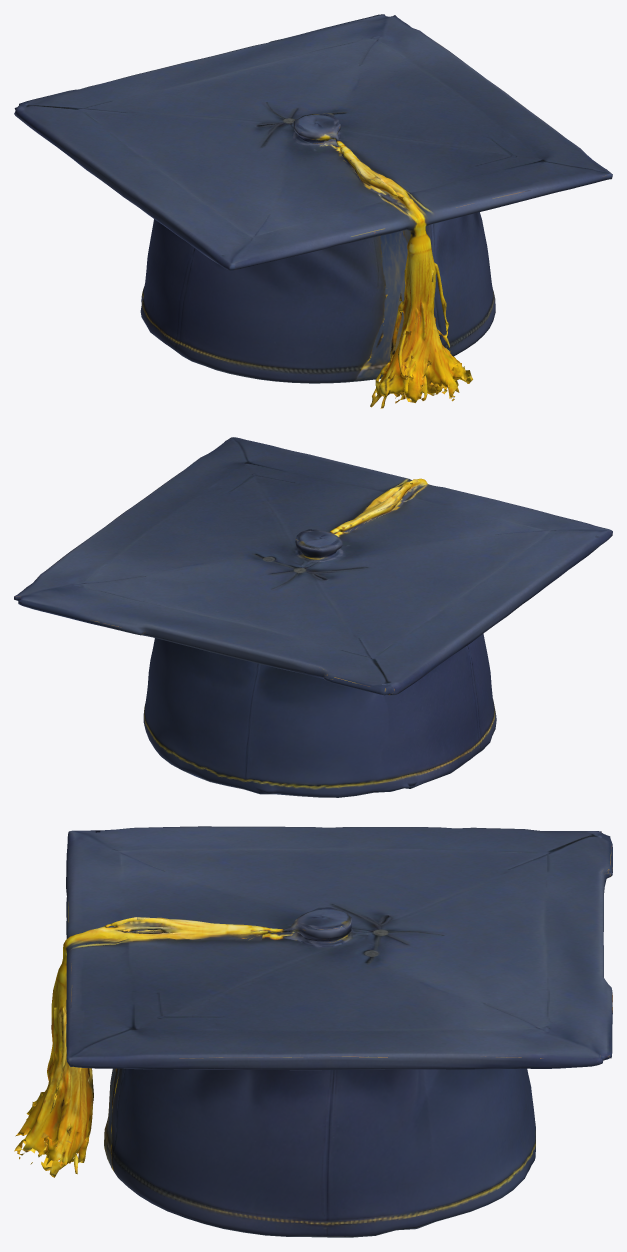
Rendered from Navy_graduation_cap_w_0523131912_texture.fbx.
The picture shows the model from 3 angles, top to bottom: view 1: azimuth 30°, elevation 25°; view 2: azimuth 150°, elevation 25°; view 3: azimuth 270°, elevation 25°; orthographic projection. The views are drawn at different scales.
Visible parts, largest first — view 1: Mesh1; view 2: Mesh1; view 3: Mesh1.
Boxes of the visible parts, x1,y1,x2,y2 form: Mesh1: (14, 14, 612, 408); Mesh1: (14, 437, 612, 797); Mesh1: (14, 826, 612, 1237).
Bounding box in the file's own units: 176 × 86.66 × 193.
1 material, 1 textured.
